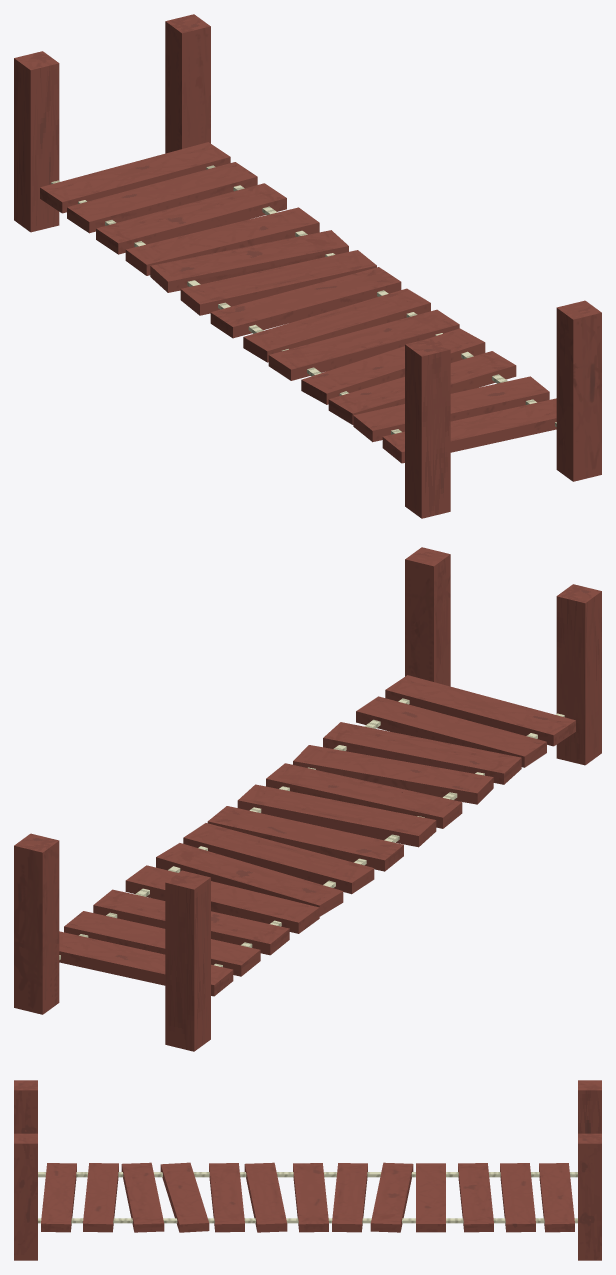
File: bridge.glb
3 views of the same model, one above another, from view 1: azimuth 30°, elevation 25°; view 2: azimuth 150°, elevation 25°; view 3: azimuth 270°, elevation 25° (orthographic). The views are drawn at different scales.
Parts seen in each view (by area): view 1: plank (×17); view 2: plank (×17); view 3: plank (×17), rope (×2).
Boxes of the visible parts, box(x1,y1,x2,y2) form: plank (×17): box(14, 14, 601, 518); plank (×17): box(14, 547, 601, 1051); plank (×17): box(14, 1080, 601, 1260); rope (×2): box(38, 1172, 577, 1223).
Size of the model in its own units: 3.12 by 2.69 by 12.25.
Materials: 2 (2 with a texture image).
